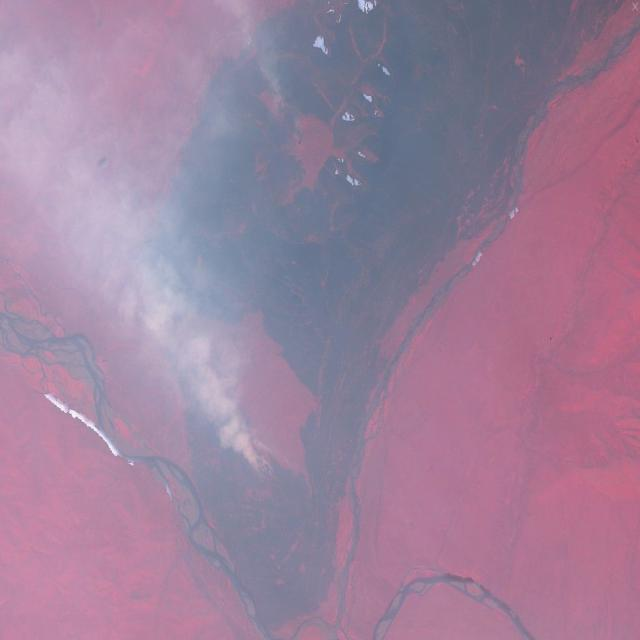fire: (151, 325, 290, 511), (219, 35, 307, 154)
